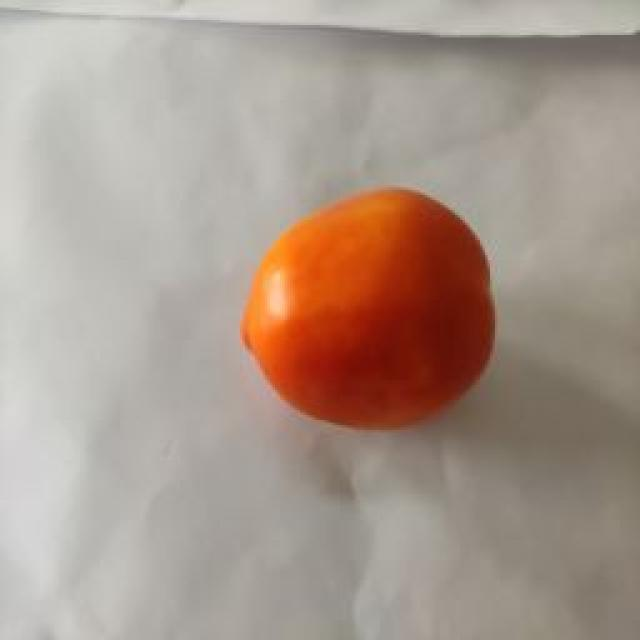tomato: (240, 185, 498, 432)
